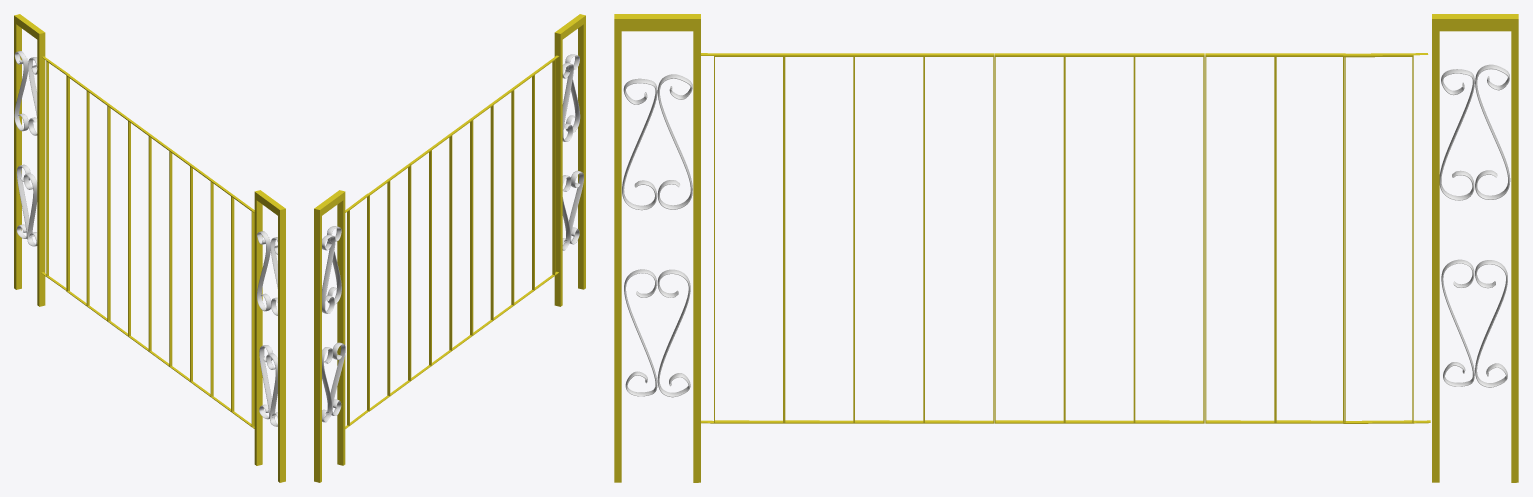
The model's file is Gate Taman Dalam.fbx.
3 views of the same model, side by side, from view 1: azimuth 30°, elevation 25°; view 2: azimuth 150°, elevation 25°; view 3: azimuth 270°, elevation 25° (orthographic). The views are drawn at different scales.
Visible parts, largest first — view 1: Cube.001, Cube, Cube.002, NurbsCurve.004, NurbsCurve, NurbsCurve.007, NurbsCurve.002, NurbsCurve.006, NurbsCurve.005, NurbsCurve.003, NurbsCurve.001; view 2: Cube.001, Cube, Cube.002, NurbsCurve.004, NurbsCurve, NurbsCurve.003, NurbsCurve.007, NurbsCurve.006, NurbsCurve.005, NurbsCurve.001, NurbsCurve.002; view 3: Cube.001, Cube, Cube.002, NurbsCurve.004, NurbsCurve.001, NurbsCurve, NurbsCurve.005, NurbsCurve.002.
Part boxes in pixels (x1,y1,x2,y2): Cube.001: (41,56,254,428); Cube: (254,190,285,482); Cube.002: (14,14,45,306); NurbsCurve.004: (14,51,28,131); NurbsCurve: (257,231,271,311); NurbsCurve.007: (23,173,37,246); NurbsCurve.002: (259,345,273,419); NurbsCurve.006: (16,164,30,238); NurbsCurve.005: (28,57,37,135); NurbsCurve.003: (266,353,277,426); NurbsCurve.001: (270,237,277,315); Cube.001: (345,55,559,428); Cube: (554,14,585,306); Cube.002: (314,190,345,482); NurbsCurve.004: (322,234,335,313); NurbsCurve: (562,63,573,141); NurbsCurve.003: (569,170,583,244); NurbsCurve.007: (330,342,345,415); NurbsCurve.006: (322,347,332,422); NurbsCurve.005: (327,226,341,304); NurbsCurve.001: (565,54,580,132); NurbsCurve.002: (562,175,571,250); Cube.001: (701,53,1430,423); Cube: (614,14,700,482); Cube.002: (1432,14,1518,482); NurbsCurve.004: (1475,64,1510,199); NurbsCurve.001: (622,78,657,210); NurbsCurve: (657,74,692,209); NurbsCurve.005: (1439,69,1474,200); NurbsCurve.002: (657,269,690,397).
Bounding box in the file's own units: 16.04 × 316 × 558.
